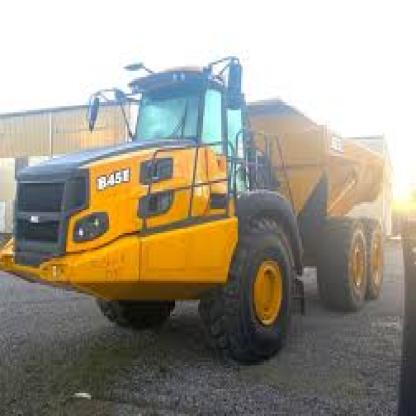dump_truck: (6, 50, 400, 381)
